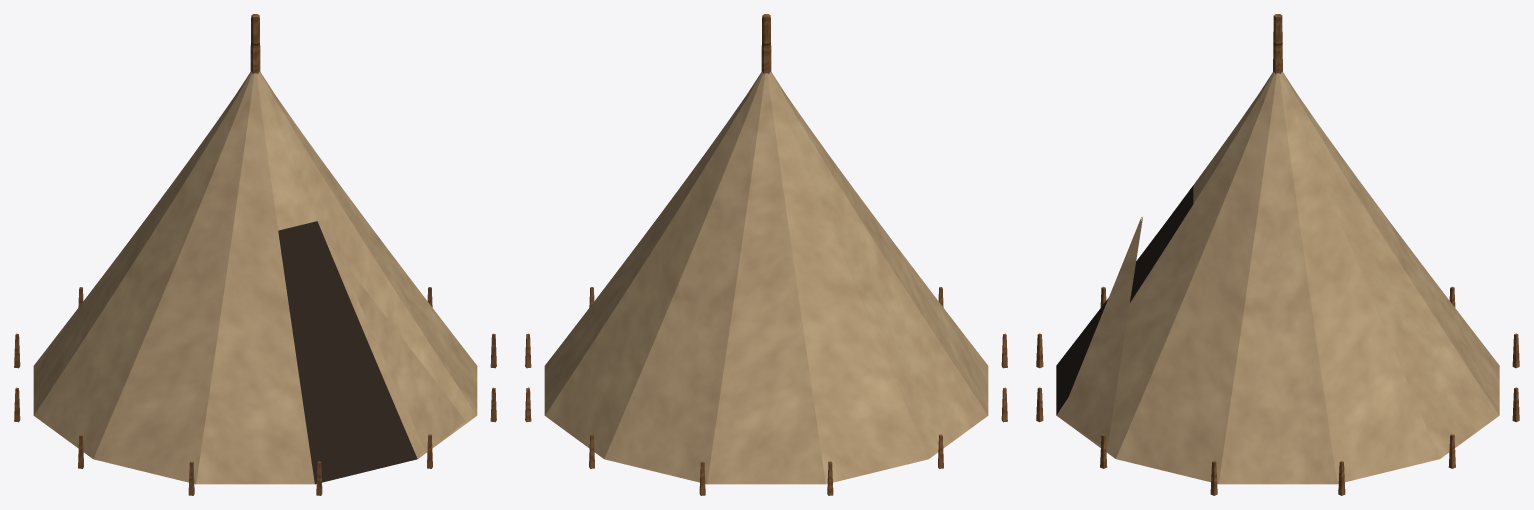
The model's file is Prop_Tent.fbx.
3 renders of one model, left to right at view 1: azimuth 30°, elevation 25°; view 2: azimuth 150°, elevation 25°; view 3: azimuth 270°, elevation 25°, orthographic.
Parts seen in each view (by area): view 1: Prop_Tent.001; view 2: Prop_Tent.001; view 3: Prop_Tent.001.
Boxes of the visible parts, <box> form: Prop_Tent.001: <box>14,14,496,495</box>; Prop_Tent.001: <box>525,14,1007,495</box>; Prop_Tent.001: <box>1036,14,1519,495</box>.
Bounding box in the file's own units: 3.37 × 2.91 × 3.37.
